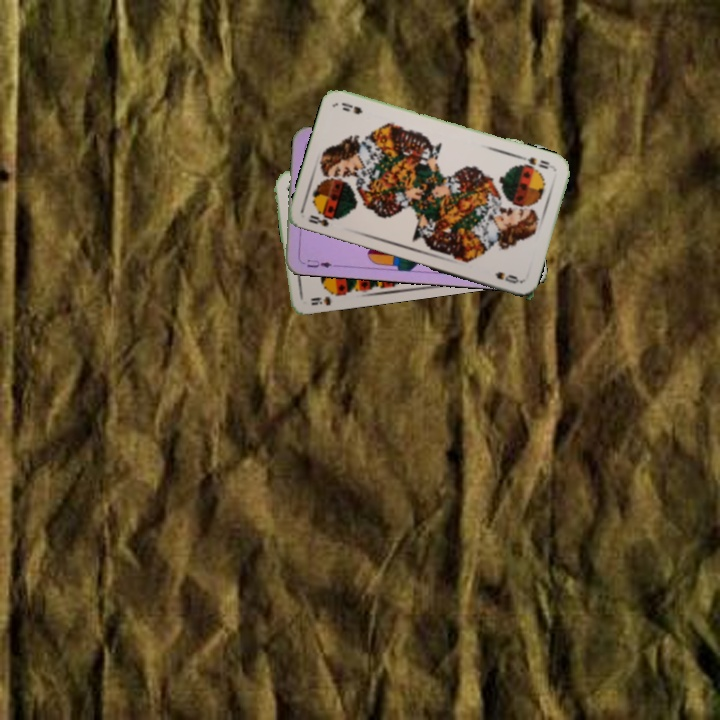EU: (298, 255, 334, 270)
S9: (307, 286, 344, 308)
SO: (304, 211, 337, 229), (523, 153, 552, 171)
